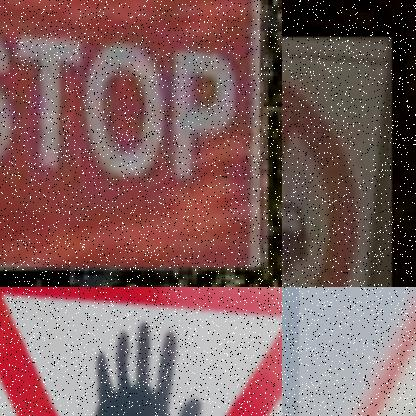No Overtaking: (282, 55, 392, 287)
Stop: (0, 287, 282, 416)
